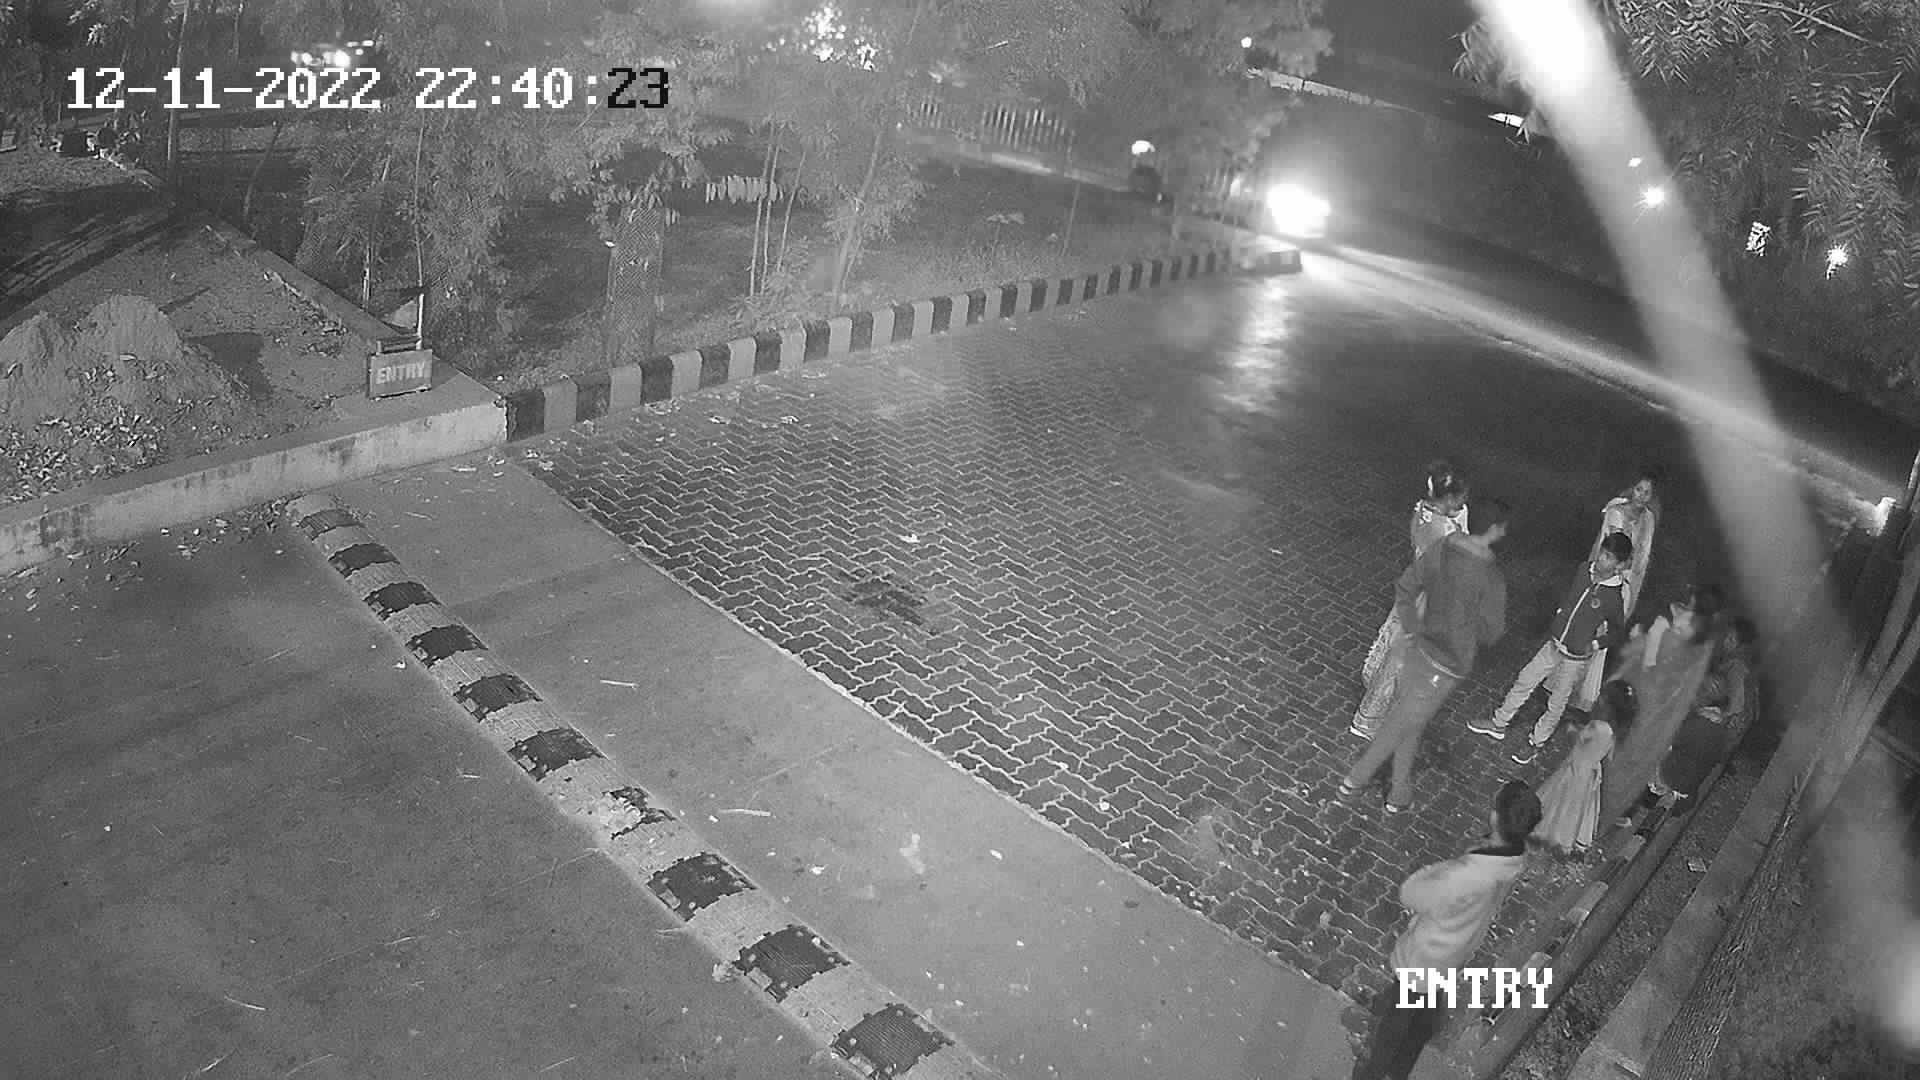Car: (1116, 104, 1346, 257)
